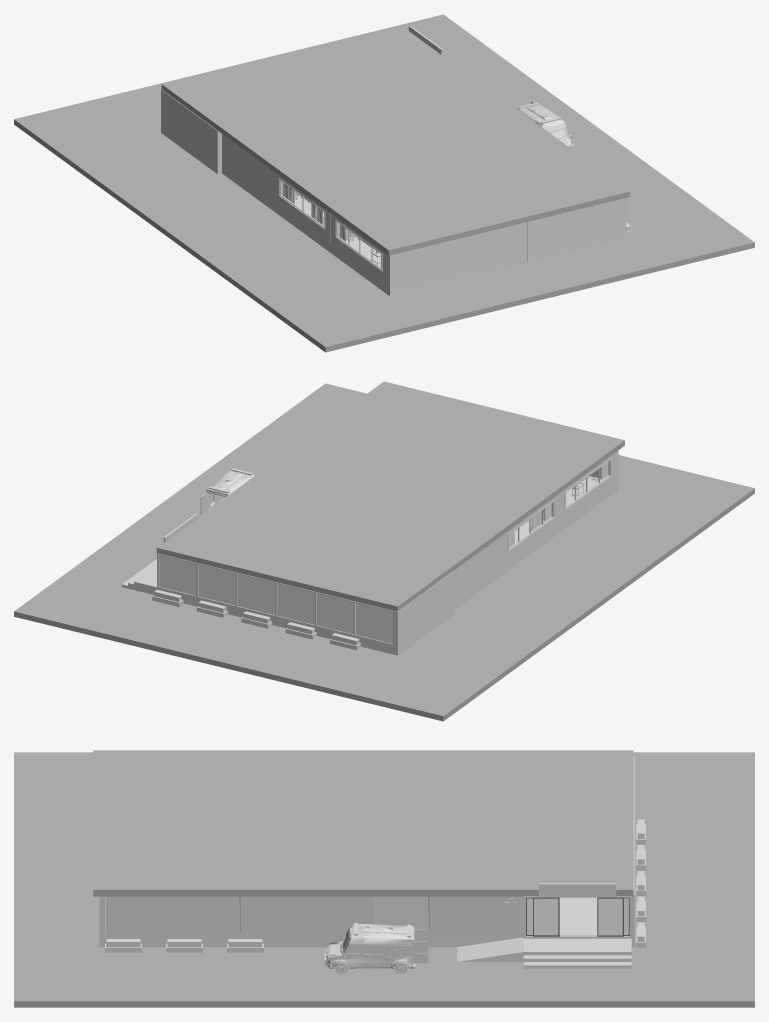
File: HOSPITAL F2.fbx
The picture shows the model from 3 angles, top to bottom: view 1: azimuth 30°, elevation 25°; view 2: azimuth 150°, elevation 25°; view 3: azimuth 270°, elevation 25°; orthographic projection. The views are drawn at different scales.
Parts seen in each view (by area): view 1: piso, piso.001, pared 18, pared 19, pared 1, piso azul, parte 21, pared 5.001, pared 5, Object_49, pared 3, pared 4; view 2: piso, piso.001, Object_794, pared 1, Object_796.001, piso azul, Object_663, pared 5, pared 5.001, puerta 2, Object_49, pared 3 (+1 smaller); view 3: piso.001, piso, puerta 2, pared 20, Object_481.001, piso azul, Object_481, Object_49, pared 24, Object_663.001, Object_663, puerta (+2 smaller).
Part boxes in pixels (x1=…): piso: x1=14, y1=14, x2=754, y2=352; piso.001: x1=161, y1=25, x2=629, y2=255; pared 18: x1=387, y1=231, x2=488, y2=296; pared 19: x1=527, y1=198, x2=625, y2=262; pared 1: x1=161, y1=89, x2=221, y2=174; piso azul: x1=222, y1=163, x2=387, y2=293; parte 21: x1=488, y1=222, x2=527, y2=272; pared 5.001: x1=330, y1=213, x2=387, y2=283; pared 5: x1=274, y1=172, x2=330, y2=241; Object_49: x1=516, y1=102, x2=574, y2=150; pared 3: x1=222, y1=134, x2=251, y2=184; pared 4: x1=251, y1=155, x2=273, y2=200; piso: x1=14, y1=383, x2=754, y2=721; piso.001: x1=156, y1=381, x2=624, y2=611; Object_794: x1=159, y1=554, x2=392, y2=643; pared 1: x1=393, y1=570, x2=454, y2=655; Object_796.001: x1=158, y1=553, x2=393, y2=654; piso azul: x1=454, y1=476, x2=615, y2=609; Object_663: x1=152, y1=589, x2=360, y2=650; pared 5: x1=502, y1=494, x2=559, y2=564; pared 5.001: x1=559, y1=452, x2=615, y2=522; puerta 2: x1=122, y1=513, x2=197, y2=594; Object_49: x1=206, y1=468, x2=254, y2=510; pared 3: x1=454, y1=552, x2=479, y2=599; piso.001: x1=93, y1=750, x2=633, y2=896; piso: x1=14, y1=752, x2=754, y2=1007; puerta 2: x1=457, y1=883, x2=631, y2=968; pared 20: x1=105, y1=896, x2=240, y2=934; Object_481.001: x1=240, y1=896, x2=375, y2=934; piso azul: x1=105, y1=897, x2=628, y2=947; Object_481: x1=429, y1=896, x2=523, y2=934; Object_49: x1=324, y1=923, x2=415, y2=969; pared 24: x1=375, y1=896, x2=429, y2=933; Object_663.001: x1=105, y1=939, x2=263, y2=952; Object_663: x1=636, y1=819, x2=645, y2=947; puerta: x1=597, y1=897, x2=623, y2=936.
Size of the model in its own units: 3644 by 489 by 4578.
